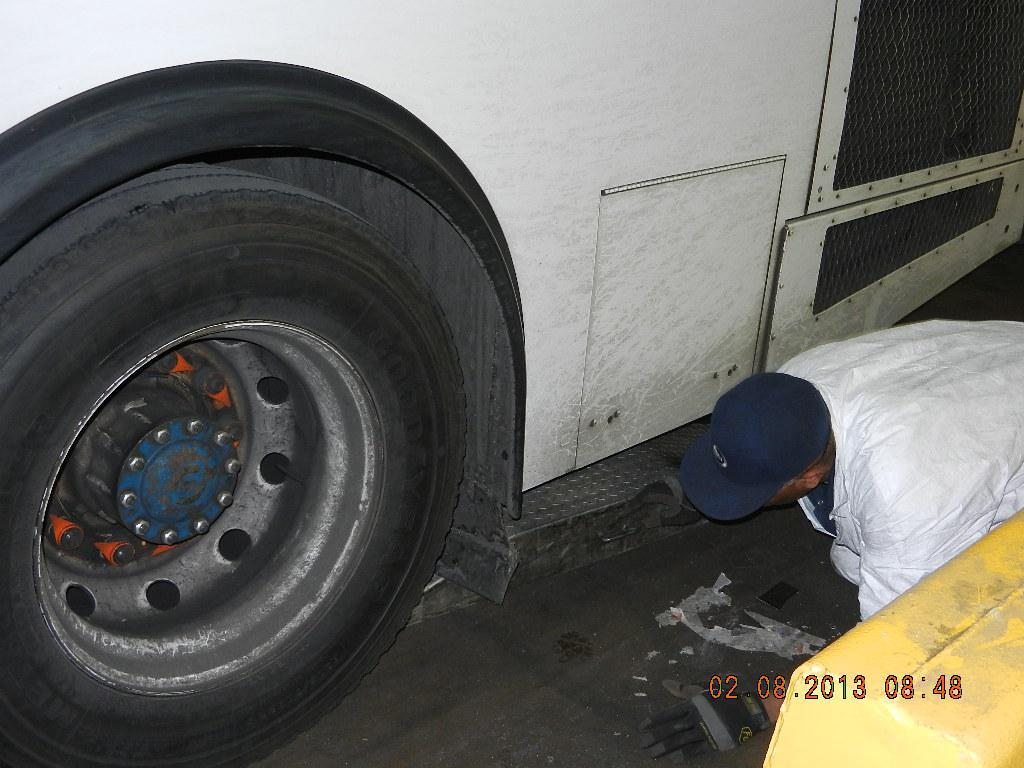Hat: (676, 372, 832, 524)
